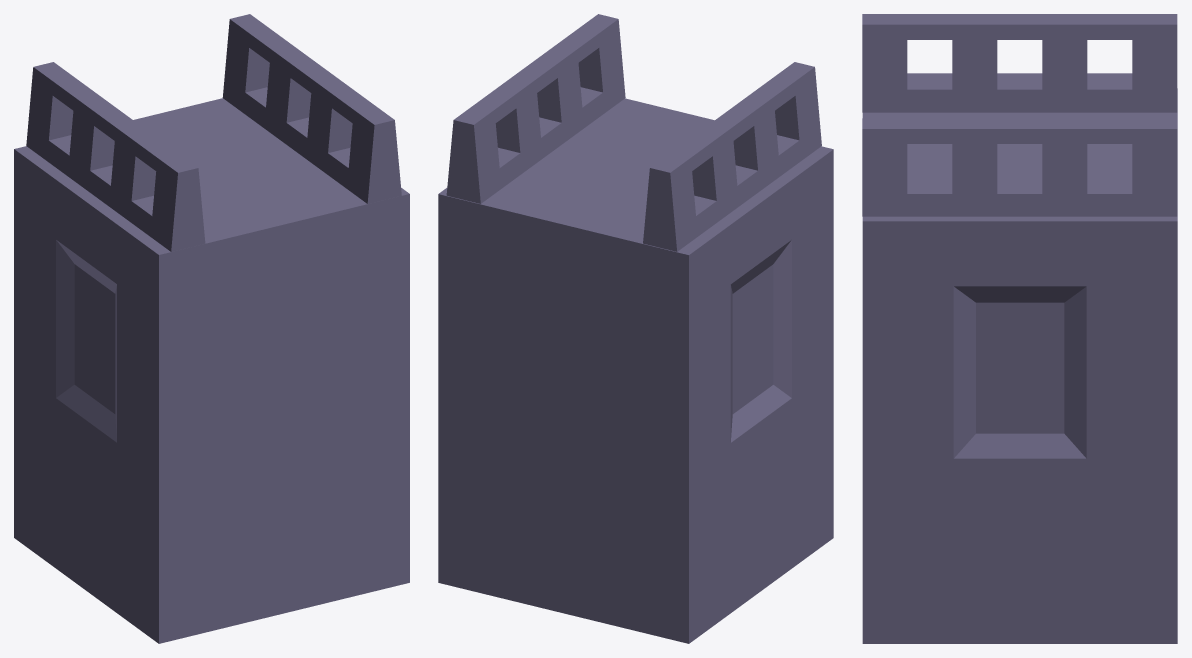
File: b_path_y.fbx
3 views of the same model, side by side, from view 1: azimuth 30°, elevation 25°; view 2: azimuth 150°, elevation 25°; view 3: azimuth 270°, elevation 25° (orthographic). The views are drawn at different scales.
Visible parts, largest first — view 1: Cube.037; view 2: Cube.037; view 3: Cube.037.
Part boxes in pixels (left/top/right/bottom): Cube.037: left=14, top=14, right=409, bottom=643; Cube.037: left=438, top=14, right=833, bottom=643; Cube.037: left=862, top=14, right=1177, bottom=643.
Bounding box in the file's own units: 200 × 355 × 200.
